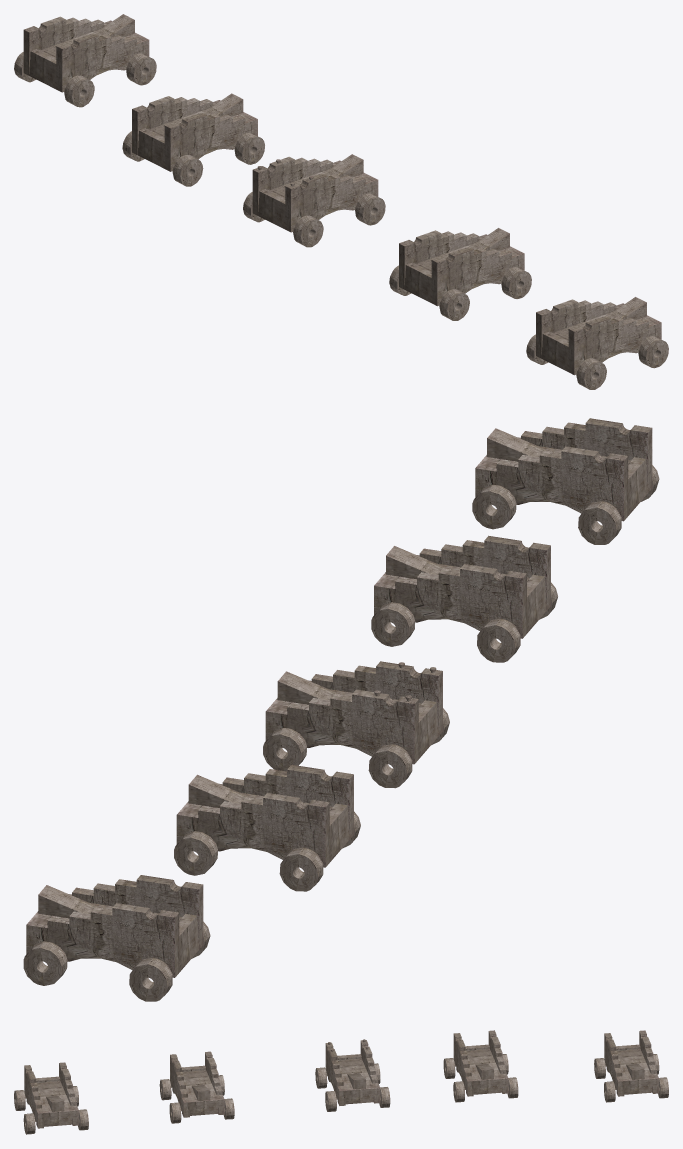
Rendered from arsenal.fbx.
3 renders of one model, top to bottom at view 1: azimuth 30°, elevation 25°; view 2: azimuth 150°, elevation 25°; view 3: azimuth 270°, elevation 25°, orthographic. The views are drawn at different scales.
Visible parts, largest first — view 1: Wedge; view 2: Wedge; view 3: Wedge.
Boxes of the visible parts, <box> form: Wedge: <box>14,14,668,389</box>; Wedge: <box>23,418,659,1001</box>; Wedge: <box>14,1030,668,1134</box>.
Bounding box in the file's own units: 138 × 38.74 × 554.
1 material, 1 textured.
